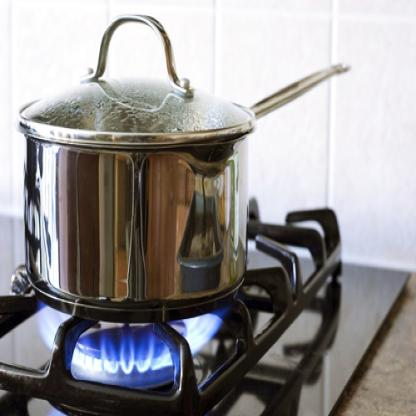fire: (40, 291, 225, 386)
